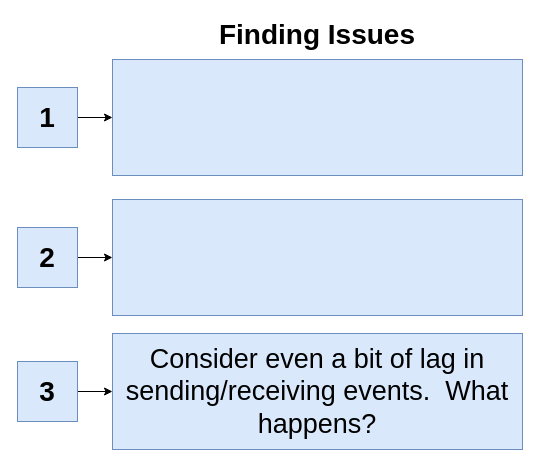
Some shapes in this 540 by 467 pixel diagram are drawn without their labels. The centre of each missing label's shape, as x and y in pixels:
"Consider events being emitted out of order. What happens?" belongs at (x=317, y=257).
"Consider every combination of services being up and down. What happens?" belongs at (x=317, y=117).
